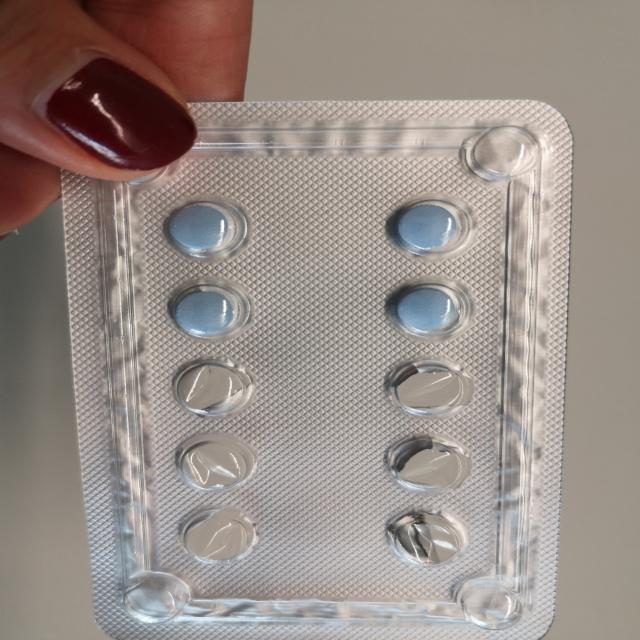Empty: (361, 427, 488, 501), (170, 500, 278, 578), (167, 426, 279, 498), (160, 352, 267, 423), (375, 502, 475, 574)
Pill: (351, 177, 486, 266), (134, 188, 270, 269), (366, 272, 485, 350), (150, 278, 270, 346), (368, 353, 486, 422)
